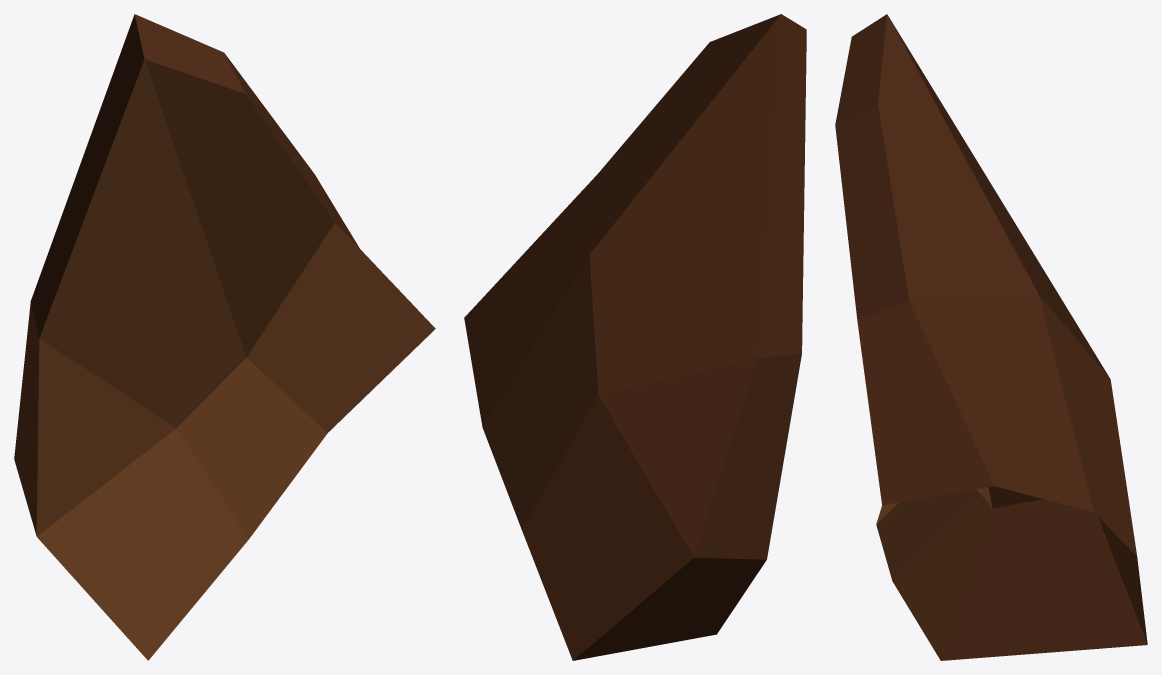
File: orecchio_dx_dog.obj
The picture shows the model from 3 angles, left to right: view 1: azimuth 30°, elevation 25°; view 2: azimuth 150°, elevation 25°; view 3: azimuth 270°, elevation 25°; orthographic projection. The views are drawn at different scales.
Parts seen in each view (by area): view 1: orecchio_dx; view 2: orecchio_dx; view 3: orecchio_dx.
Boxes of the visible parts, x1=… form: orecchio_dx: x1=14, y1=14, x2=435, y2=660; orecchio_dx: x1=464, y1=14, x2=806, y2=660; orecchio_dx: x1=835, y1=14, x2=1147, y2=660.
Size of the model in its own units: 0.0764 by 0.1385 by 0.0625.
